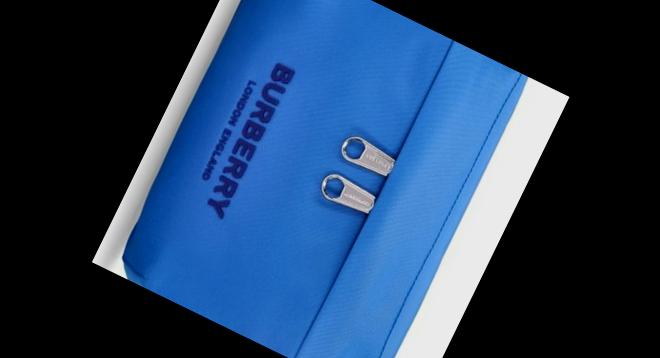BURBERRY: (202, 61, 294, 219)
